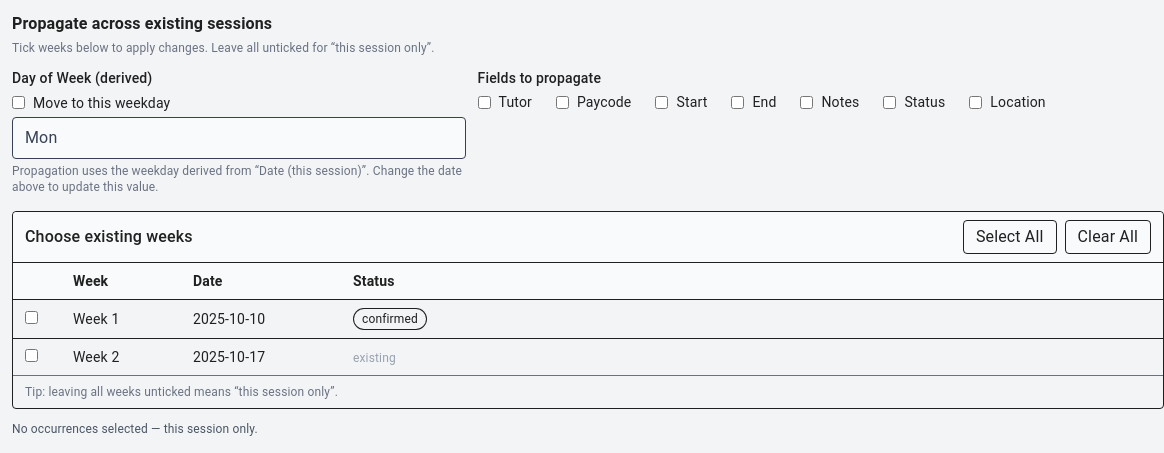
Test: PropagationPanel (no user-event) › Select All / Clear All update occurrenceIds and summary
Check: the text "Week 1" is shown, box [61,299,181,338]
Click the button "Select All" at [1010, 236], box [963,220,1057,254]
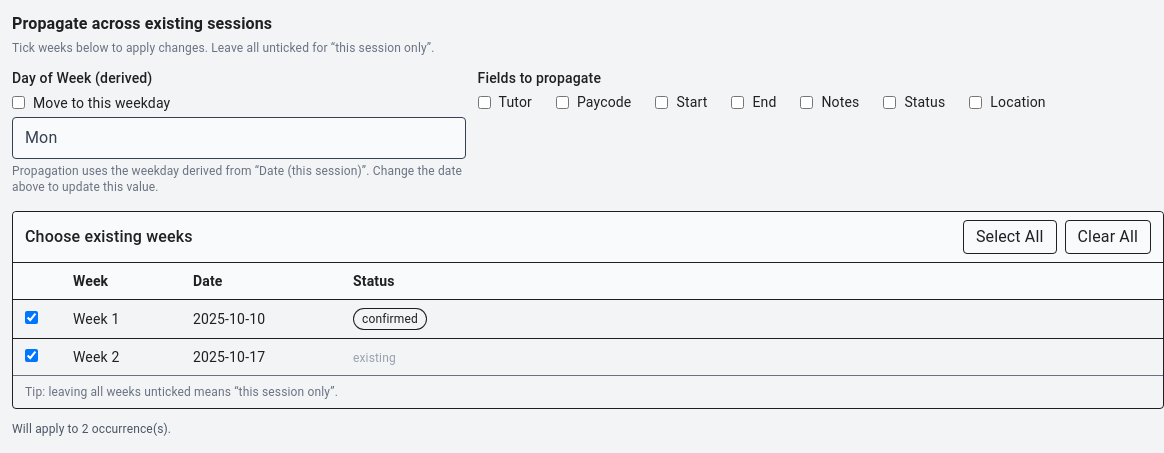
Check: the text "Will apply to 2 occurrence(s)." is shown, box [12,422,171,436]
Click the button "Clear All" at [1108, 236], box [1064,220,1151,254]
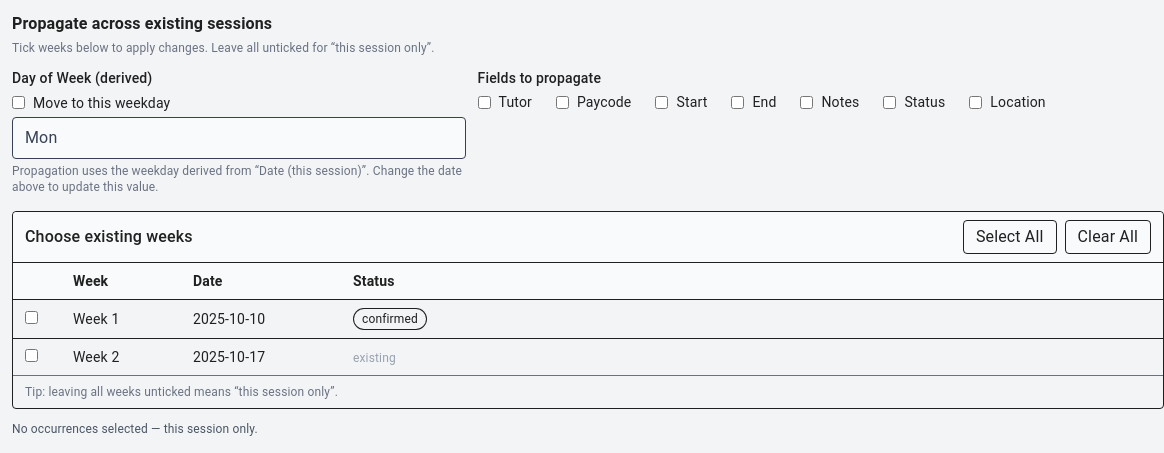
Check: the text "No occurrences selected — this session only." is shown, box [12,422,258,436]
